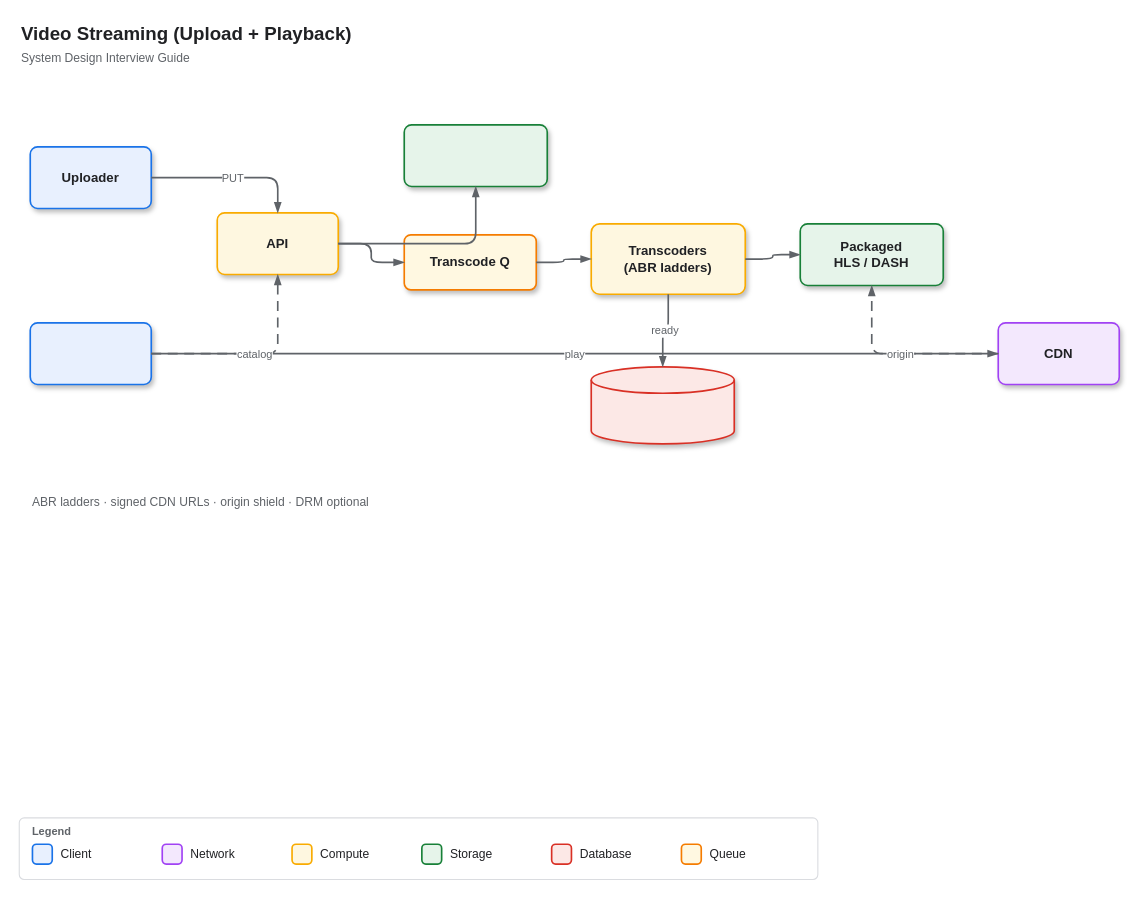
The diagram is 1146 pixels wide and 899 high, and some of its shapes have lost their labels. The centre of each missing label's shape, as x and y in pixels:
"Metadata DB" goes at point 663,406.
"Object store (raw)" goes at point 476,156.
"Viewer" goes at point 91,354.
